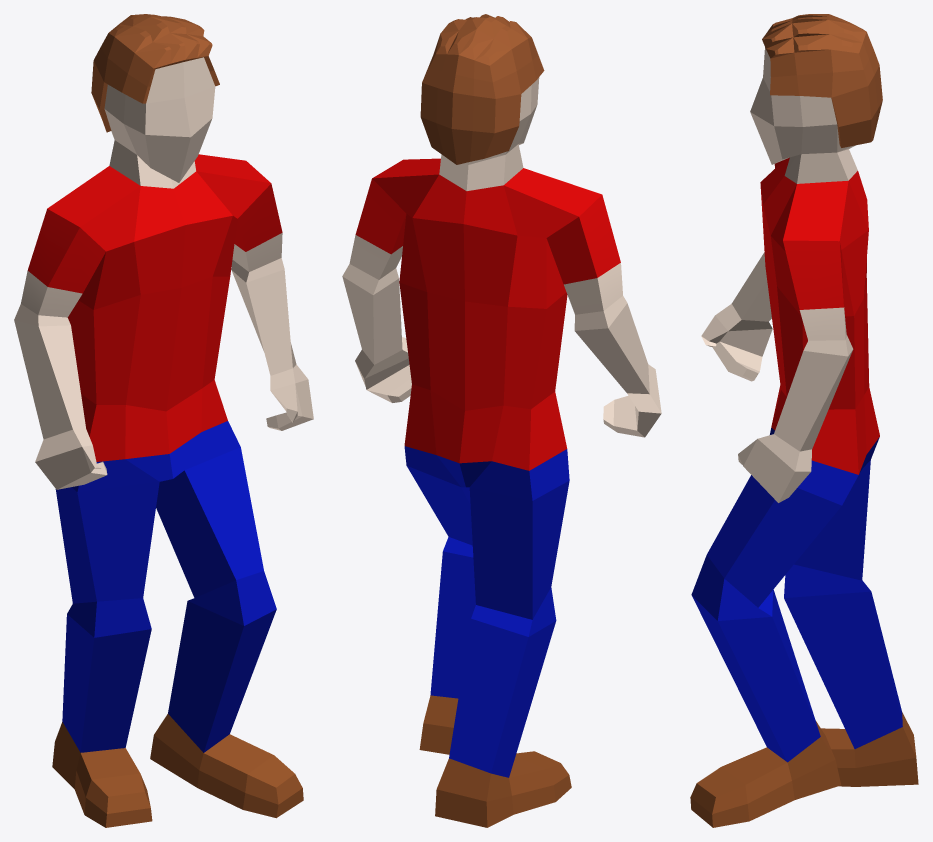
The model's file is Human_walking_3.fbx.
3 renders of one model, left to right at view 1: azimuth 30°, elevation 25°; view 2: azimuth 150°, elevation 25°; view 3: azimuth 270°, elevation 25°, orthographic.
Parts seen in each view (by area): view 1: Person; view 2: Person; view 3: Person.
Part boxes in pixels (box(x1,y1,x2,y2)): Person: box(14, 14, 313, 827); Person: box(342, 14, 661, 827); Person: box(690, 14, 918, 827).
Bounding box in the file's own units: 0.6233 × 1.58 × 0.4218.
